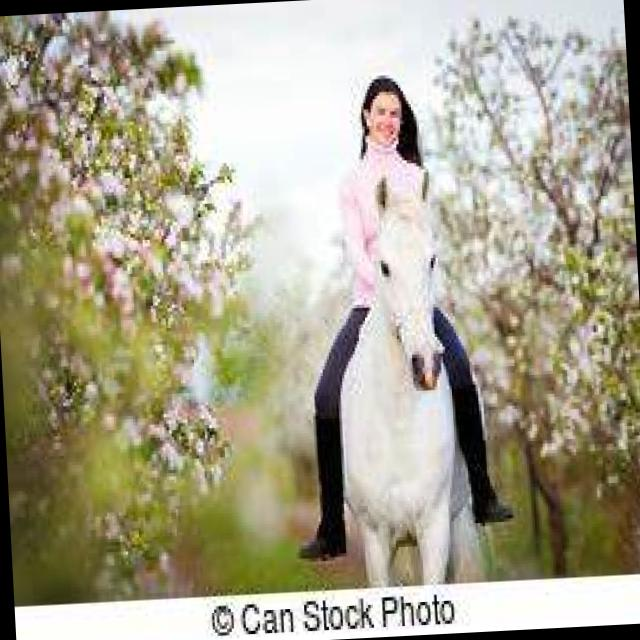horse: (328, 174, 493, 588)
